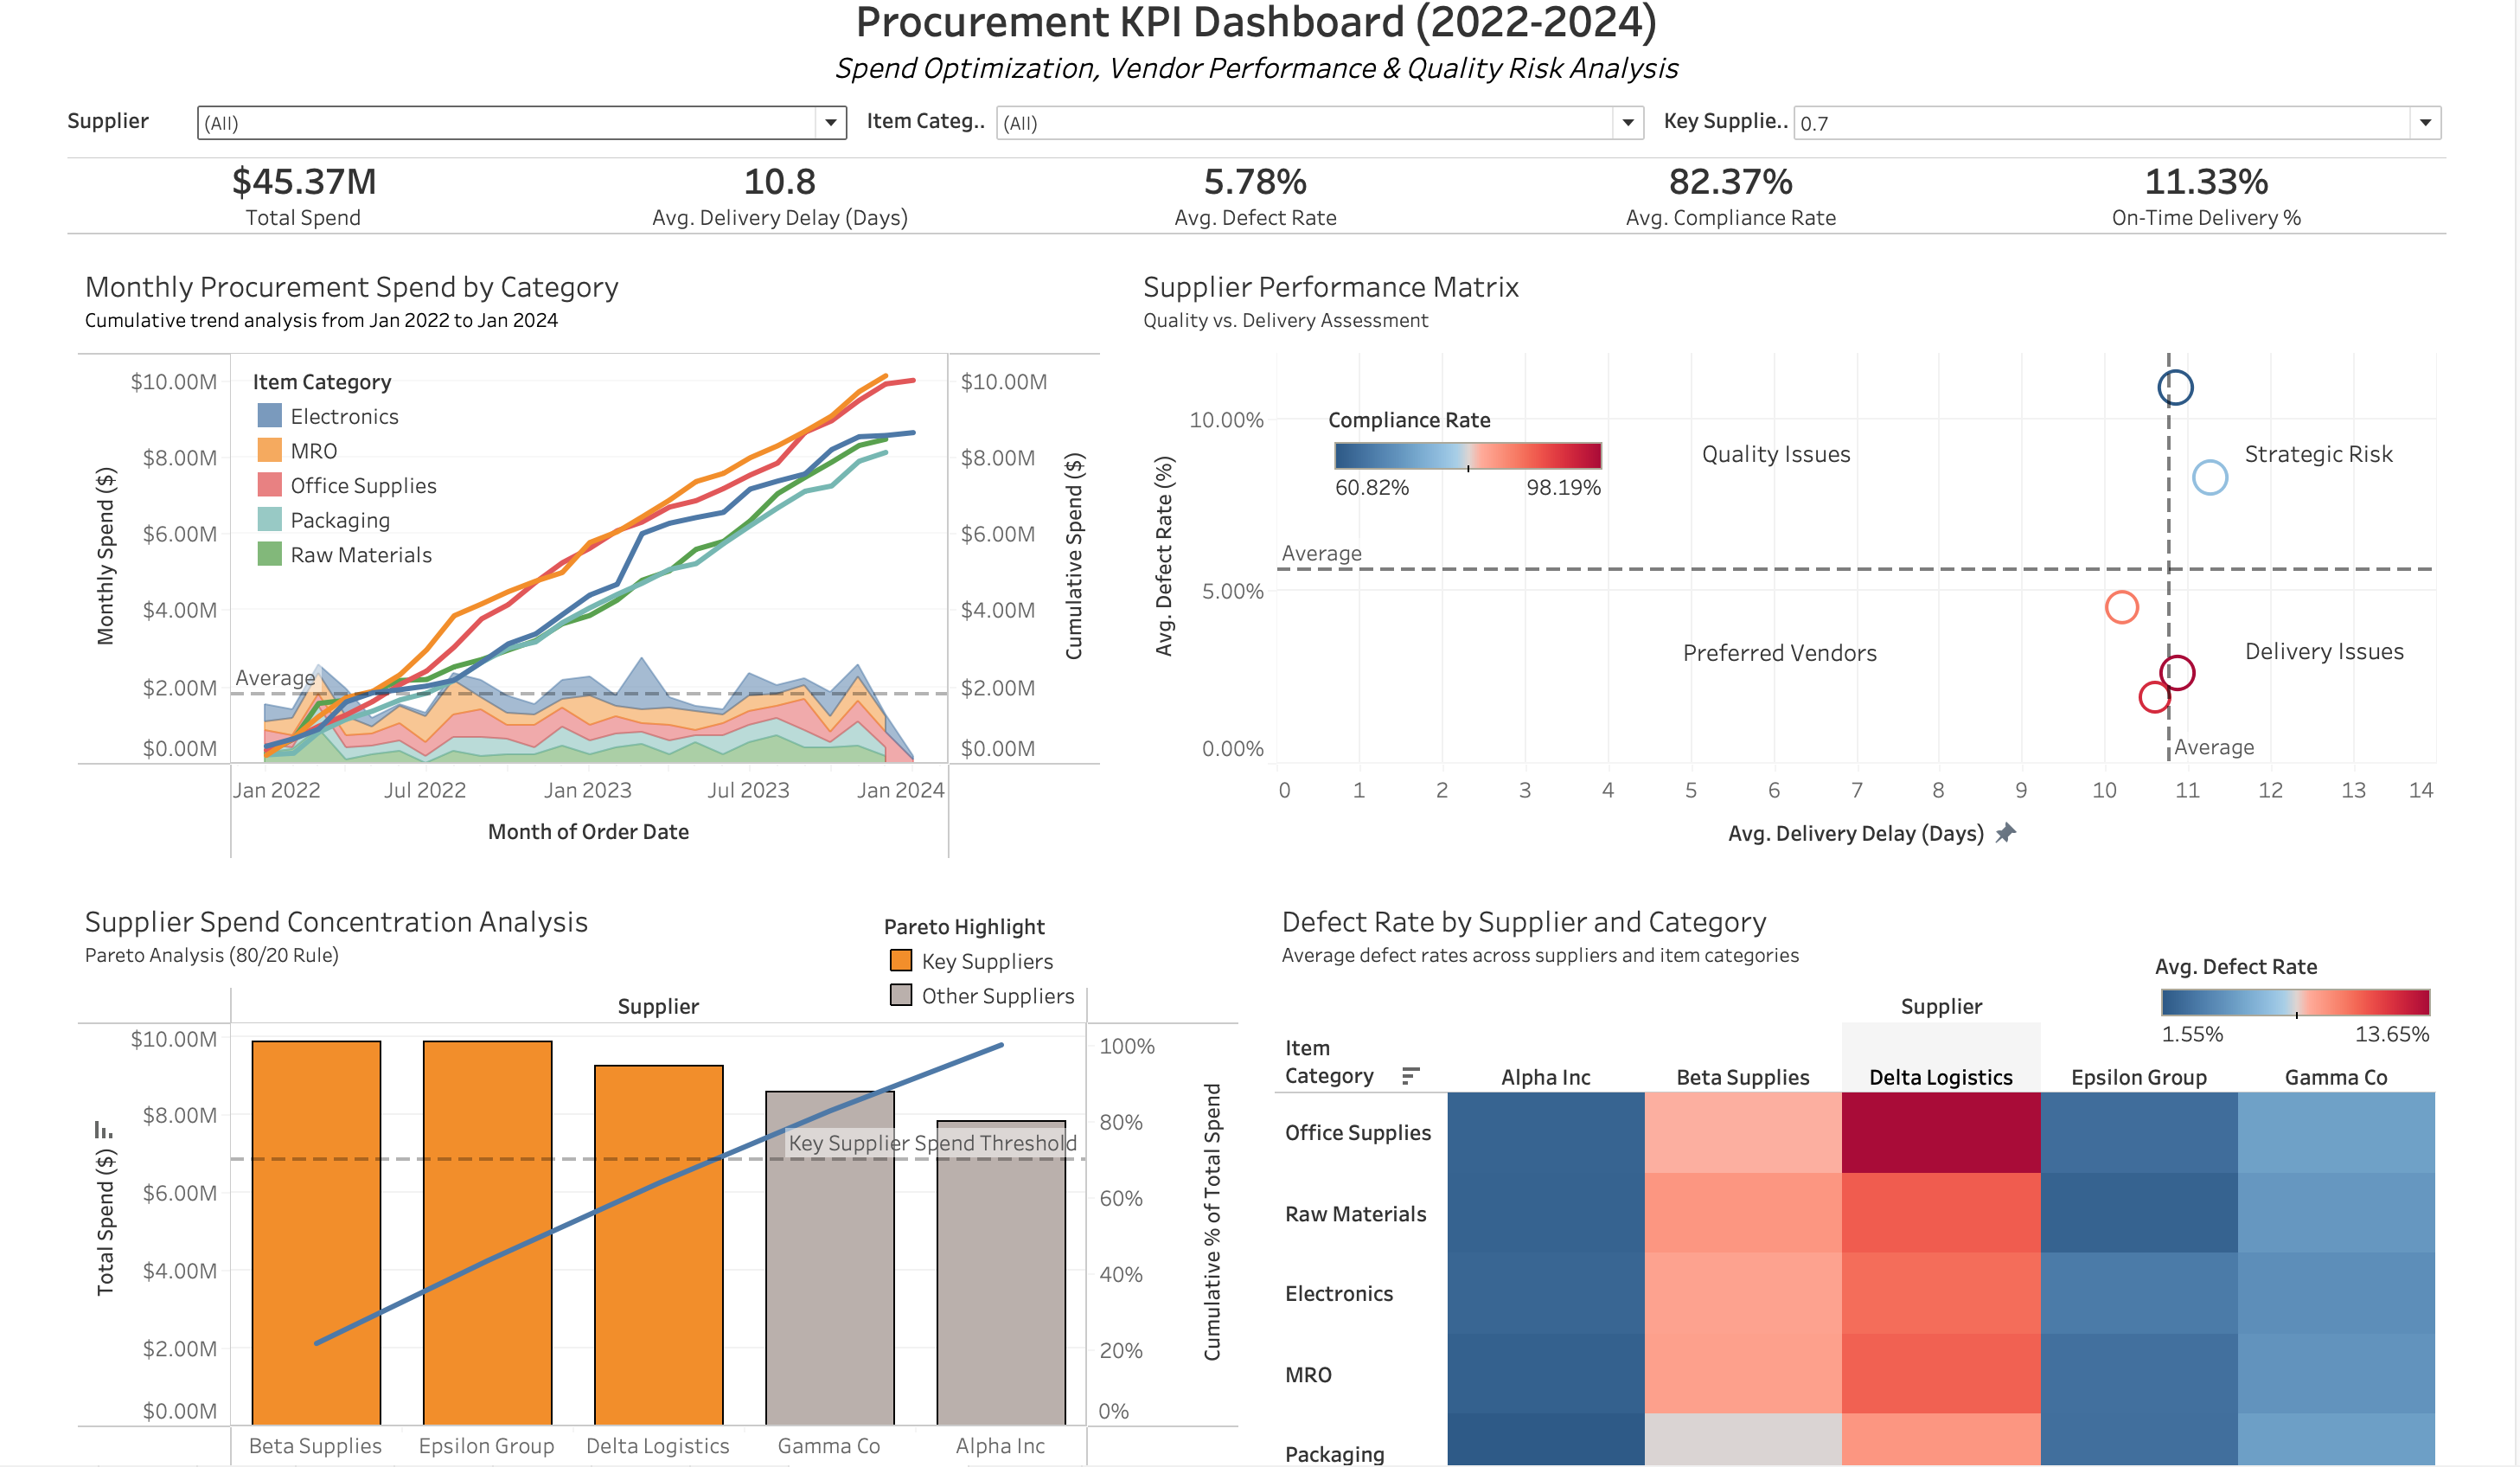

This screenshot's page, from the dashboard's own definition file:
{"tool":"tableau","page":{"name":"Dashboard 1","canvas":[1400,900],"ordinal":0},"visuals":[{"type":"title","box":[8,8,1384,64]},{"type":"filter","title":"Sheet 1","param":"[federated.1c9gzf511v1ifh0zlfe0o0d9fj0l].[none:Supplier:nk]","box":[8,72,462,32]},{"type":"filter","title":"Sheet 1","param":"[federated.1c9gzf511v1ifh0zlfe0o0d9fj0l].[none:Item_Category:nk]","box":[470,72,461,32]},{"type":"parameter","param":"[Parameters].[Parameter 1]","box":[931,72,461,32]},{"type":"worksheet","title":"Sheet 15","mark":"Automatic","box":[8,104,1384,53]},{"type":"worksheet","title":"Sheet 1","mark":"Automatic","rows":["Total_Spend"],"cols":["Order_Date"],"box":[8,157,612,367]},{"type":"worksheet","title":"Sheet 3","mark":"Automatic","rows":["Defect_Rate"],"cols":["Delivery_Delay_Days"],"box":[620,157,772,367]},{"type":"legend","title":"Sheet 1","param":"[federated.1c9gzf511v1ifh0zlfe0o0d9fj0l].[none:Item_Category:nk]","box":[119,229,163,133]},{"type":"legend","title":"Sheet 3","param":"[federated.1c9gzf511v1ifh0zlfe0o0d9fj0l].[avg:Calculation_5572852706199261185:qk","box":[741,251,163,86]},{"type":"worksheet","title":"Sheet 4","mark":"Line","rows":["Total_Spend","Total_Spend"],"cols":["Supplier"],"box":[8,524,692,368]},{"type":"worksheet","title":"Sheet 5","mark":"Automatic","rows":["Item_Category"],"cols":["Supplier"],"box":[700,524,692,368]},{"type":"legend","title":"Sheet 4","param":"[federated.1c9gzf511v1ifh0zlfe0o0d9fj0l].[usr:Calculation_3384736606980009984:nk","box":[484,544,163,65]},{"type":"legend","title":"Sheet 5","param":"[federated.1c9gzf511v1ifh0zlfe0o0d9fj0l].[avg:Defect_Rate:qk]","box":[1219,567,164,85]}]}

Visuals, with their boxes on the page's 1400x900 design canvas (x1, y1, x2, y2). These are canvas units, not pixel positions in the 2520x1467 screenshot, which may show the page scaled, cropped or inside an application window:
title: x1=8, y1=8, x2=1392, y2=72
"Sheet 1" filter: x1=8, y1=72, x2=470, y2=104
"Sheet 1" filter: x1=470, y1=72, x2=931, y2=104
parameter: x1=931, y1=72, x2=1392, y2=104
"Sheet 15" worksheet: x1=8, y1=104, x2=1392, y2=157
"Sheet 1" worksheet: x1=8, y1=157, x2=620, y2=524
"Sheet 3" worksheet: x1=620, y1=157, x2=1392, y2=524
"Sheet 1" legend: x1=119, y1=229, x2=282, y2=362
"Sheet 3" legend: x1=741, y1=251, x2=904, y2=337
"Sheet 4" worksheet (Line marks): x1=8, y1=524, x2=700, y2=892
"Sheet 5" worksheet: x1=700, y1=524, x2=1392, y2=892
"Sheet 4" legend: x1=484, y1=544, x2=647, y2=609
"Sheet 5" legend: x1=1219, y1=567, x2=1383, y2=652
